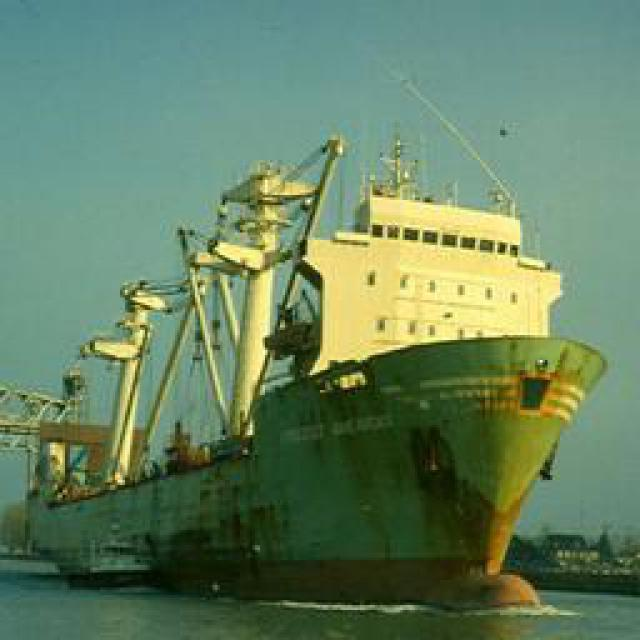Ship: (18, 118, 623, 603)
